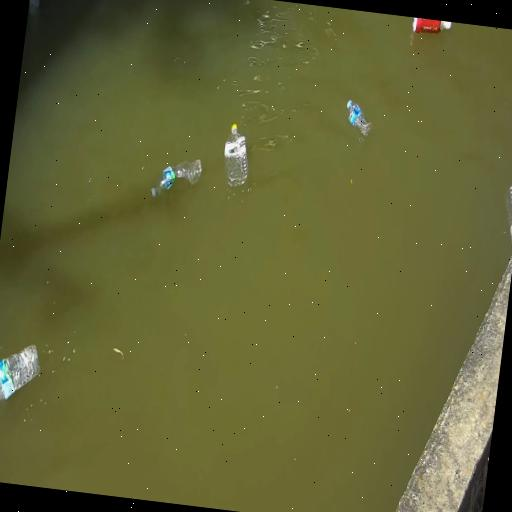plastic: (0, 345, 40, 403), (152, 160, 201, 197), (224, 124, 248, 187), (347, 100, 371, 137), (413, 18, 451, 33), (506, 187, 511, 239)
